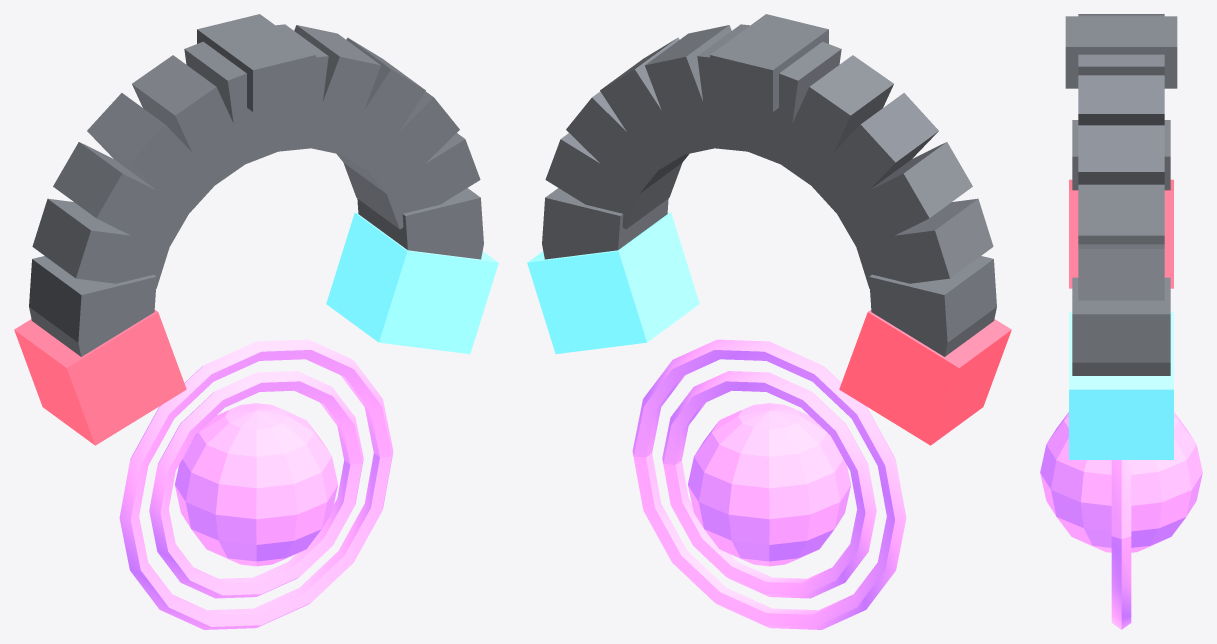
Rendered from pickups-and-collectibles-magnet-orb-111c9c34__19892.glb.
The picture shows the model from 3 angles, left to right: view 1: azimuth 30°, elevation 25°; view 2: azimuth 150°, elevation 25°; view 3: azimuth 270°, elevation 25°; orthographic projection.
Visible parts, largest first — view 1: body/iron, body/arcane, body/gem, body/ruby; view 2: body/iron, body/arcane, body/gem, body/ruby; view 3: body/iron, body/arcane, body/gem, body/ruby.
Boxes of the visible parts, bbox=[...] form: body/iron: bbox=[29, 14, 483, 356]; body/arcane: bbox=[119, 339, 393, 629]; body/gem: bbox=[326, 212, 498, 353]; body/ruby: bbox=[14, 310, 186, 445]; body/iron: bbox=[542, 14, 996, 356]; body/arcane: bbox=[632, 339, 906, 629]; body/gem: bbox=[527, 212, 699, 353]; body/ruby: bbox=[839, 310, 1011, 445]; body/iron: bbox=[1065, 14, 1177, 375]; body/arcane: bbox=[1040, 412, 1202, 629]; body/gem: bbox=[1069, 311, 1173, 459]; body/ruby: bbox=[1069, 179, 1173, 288].
Bounding box in the file's own units: 0.3785 × 0.4905 × 0.124.
